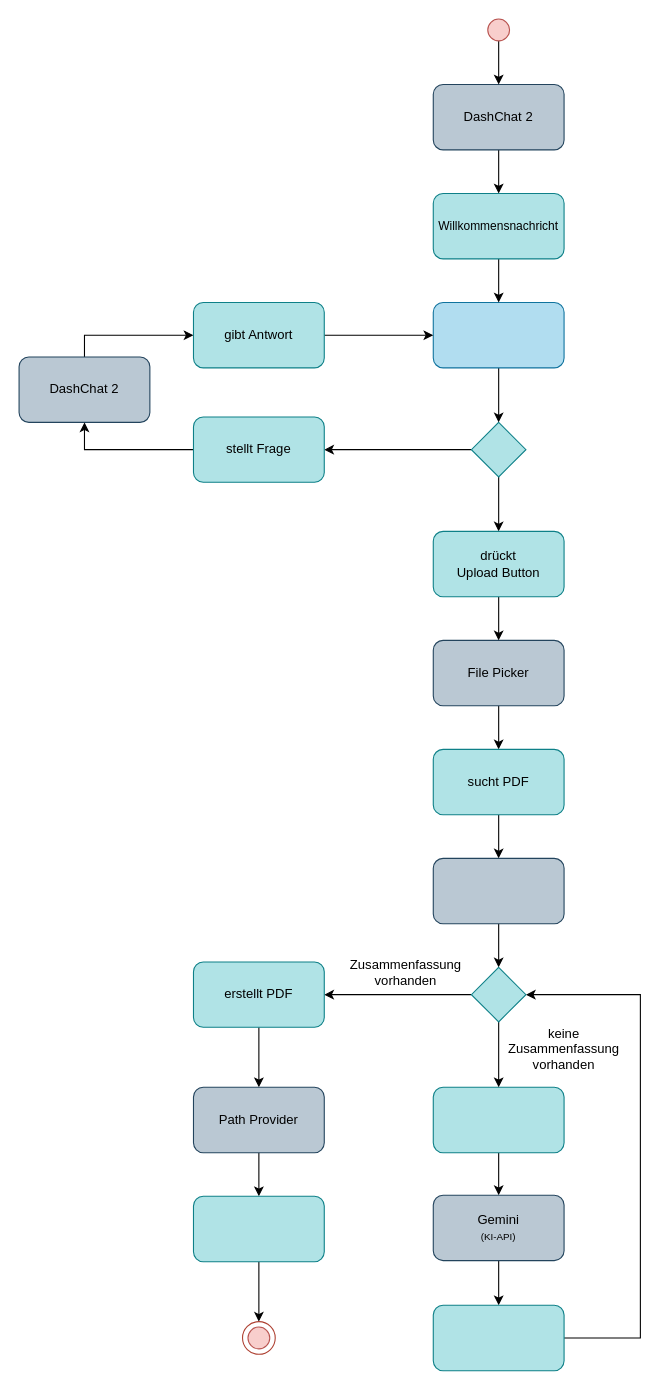
The diagram is 668 pixels wide and 1390 high, and some of its shapes have lost their labels. The shapes that lost their labels are listed below. From the top down, each one's box as (x1, y1, x2, y2) in pixels, then its label:
(432, 301, 564, 368): User
(432, 857, 564, 924): Syncfusion PDF
(432, 1086, 564, 1153): extrahiert Texte
(192, 1195, 324, 1262): speichert PDF
(432, 1304, 564, 1371): Analyse und Zusammenfassung
